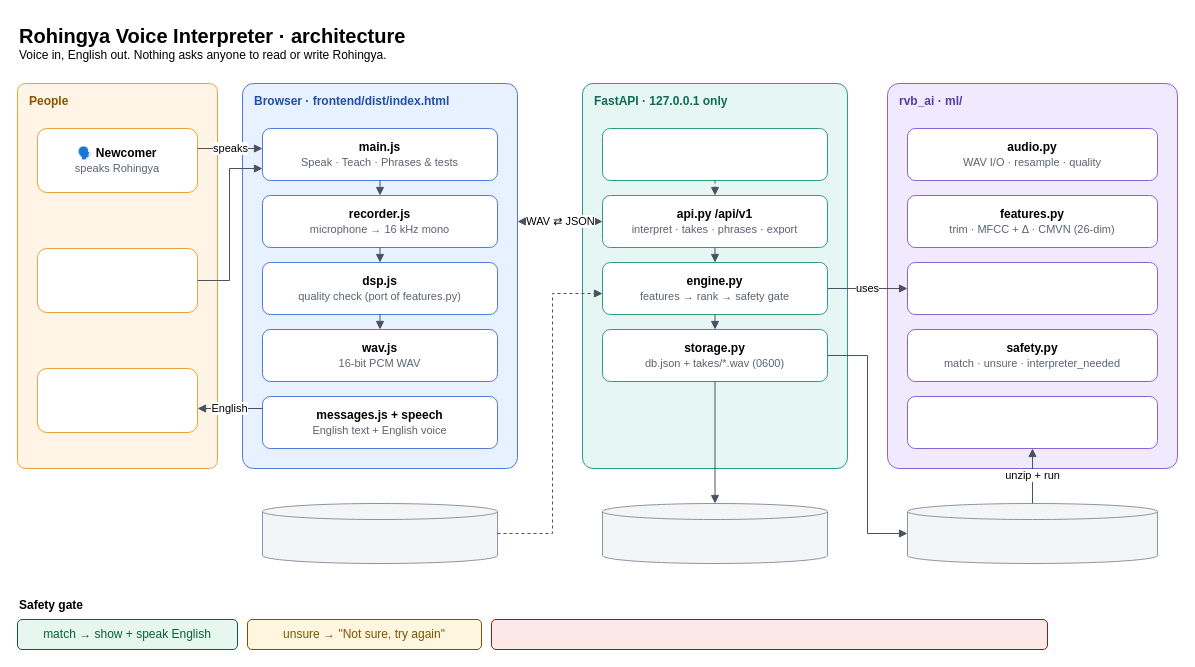
This 1195x667 diagram has some shape labels left out. The shapes that lost their labels are listed below. From the top down, each one's centre as x and y in pixels, then its label:
the point at 715,154: security.py helper key · CSP · trusted hosts
the point at 117,280: 🧑‍🏫 Bilingual helper teaches phrases by voice
the point at 1032,288: matcher.py banded DTW vs. taught takes
the point at 117,400: 👩‍💼 Staff read + hear English
the point at 1032,422: eval_matcher.py accuracy · confusions · thresholds
the point at 380,533: data/phrases.seed.json starter phrases · English only
the point at 715,533: RVB_DATA_DIR private · outside repo · no cloud sync
the point at 1032,533: rvb-recordings.zip manifest.json + takes/*.wav
the point at 769,634: health · legal · emergency: only on a STRONG match, else → human interpreter
